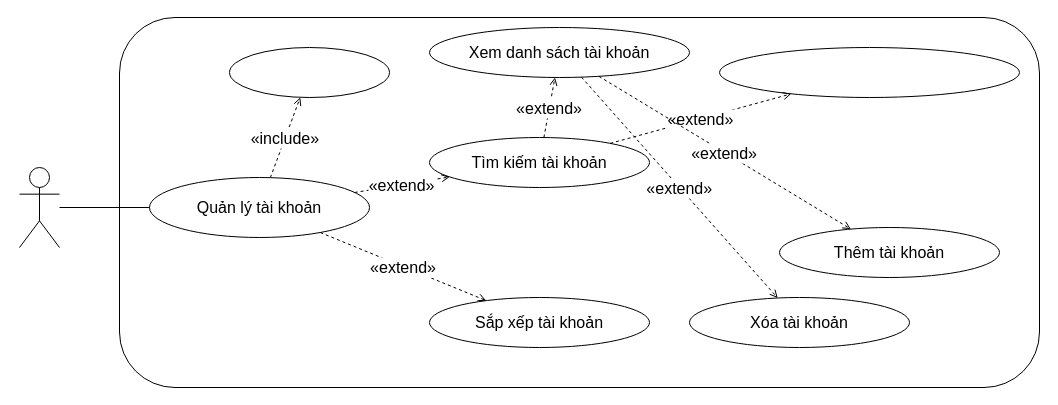
Image size: 1058x405. Some labels were removed from this diagram. The centre of each missing label's shape, as x and y in pixels:
Admin: (x=39, y=207)
Xem thông tin chi tiết tài khoản: (x=869, y=72)
Đăng nhập: (x=309, y=72)
